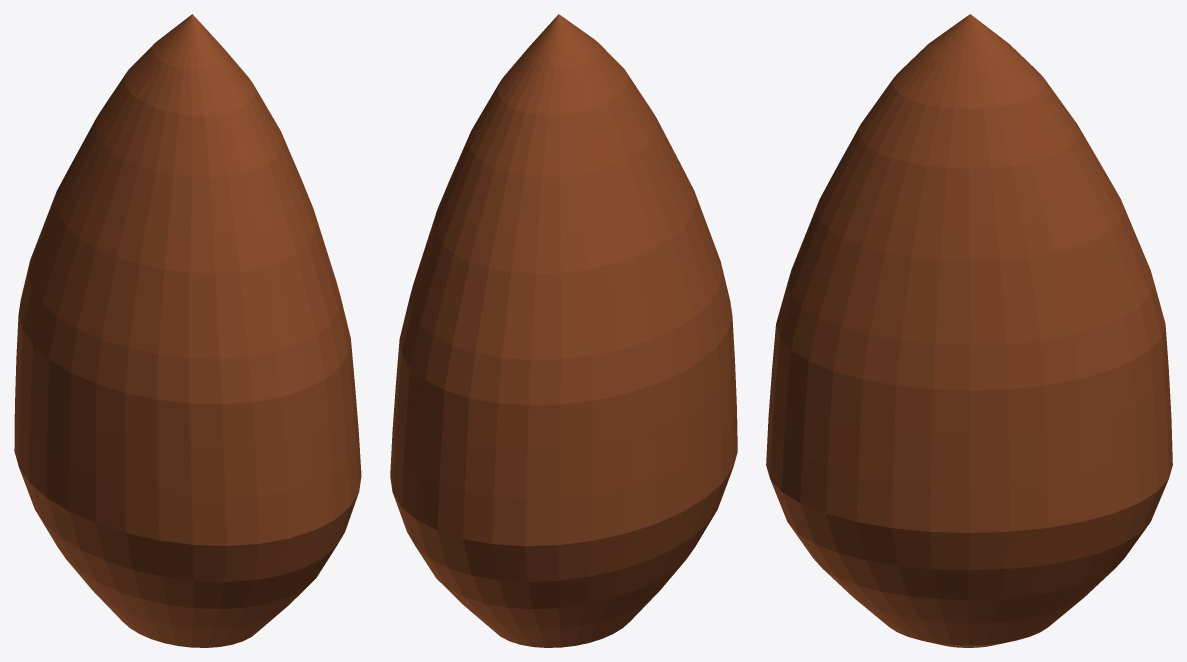
File: Agradnik_Ezequiel Ian_48113056.fbx
3 views of the same model, side by side, from view 1: azimuth 30°, elevation 25°; view 2: azimuth 150°, elevation 25°; view 3: azimuth 270°, elevation 25° (orthographic).
Visible parts, largest first — view 1: Sphere; view 2: Sphere; view 3: Sphere.
Part boxes in pixels (left/top/right/bottom): Sphere: left=14, top=14, right=361, bottom=647; Sphere: left=390, top=14, right=737, bottom=647; Sphere: left=766, top=14, right=1172, bottom=647.
Size of the model in its own units: 147 by 301 by 181.
